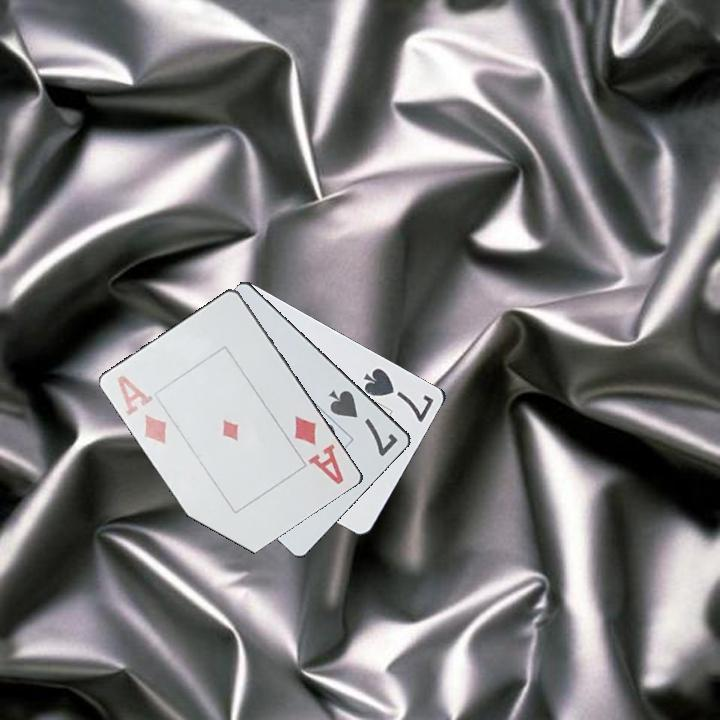7s: (325, 386, 401, 460), (360, 364, 437, 425)
Ad: (289, 412, 347, 488), (114, 372, 170, 448)
